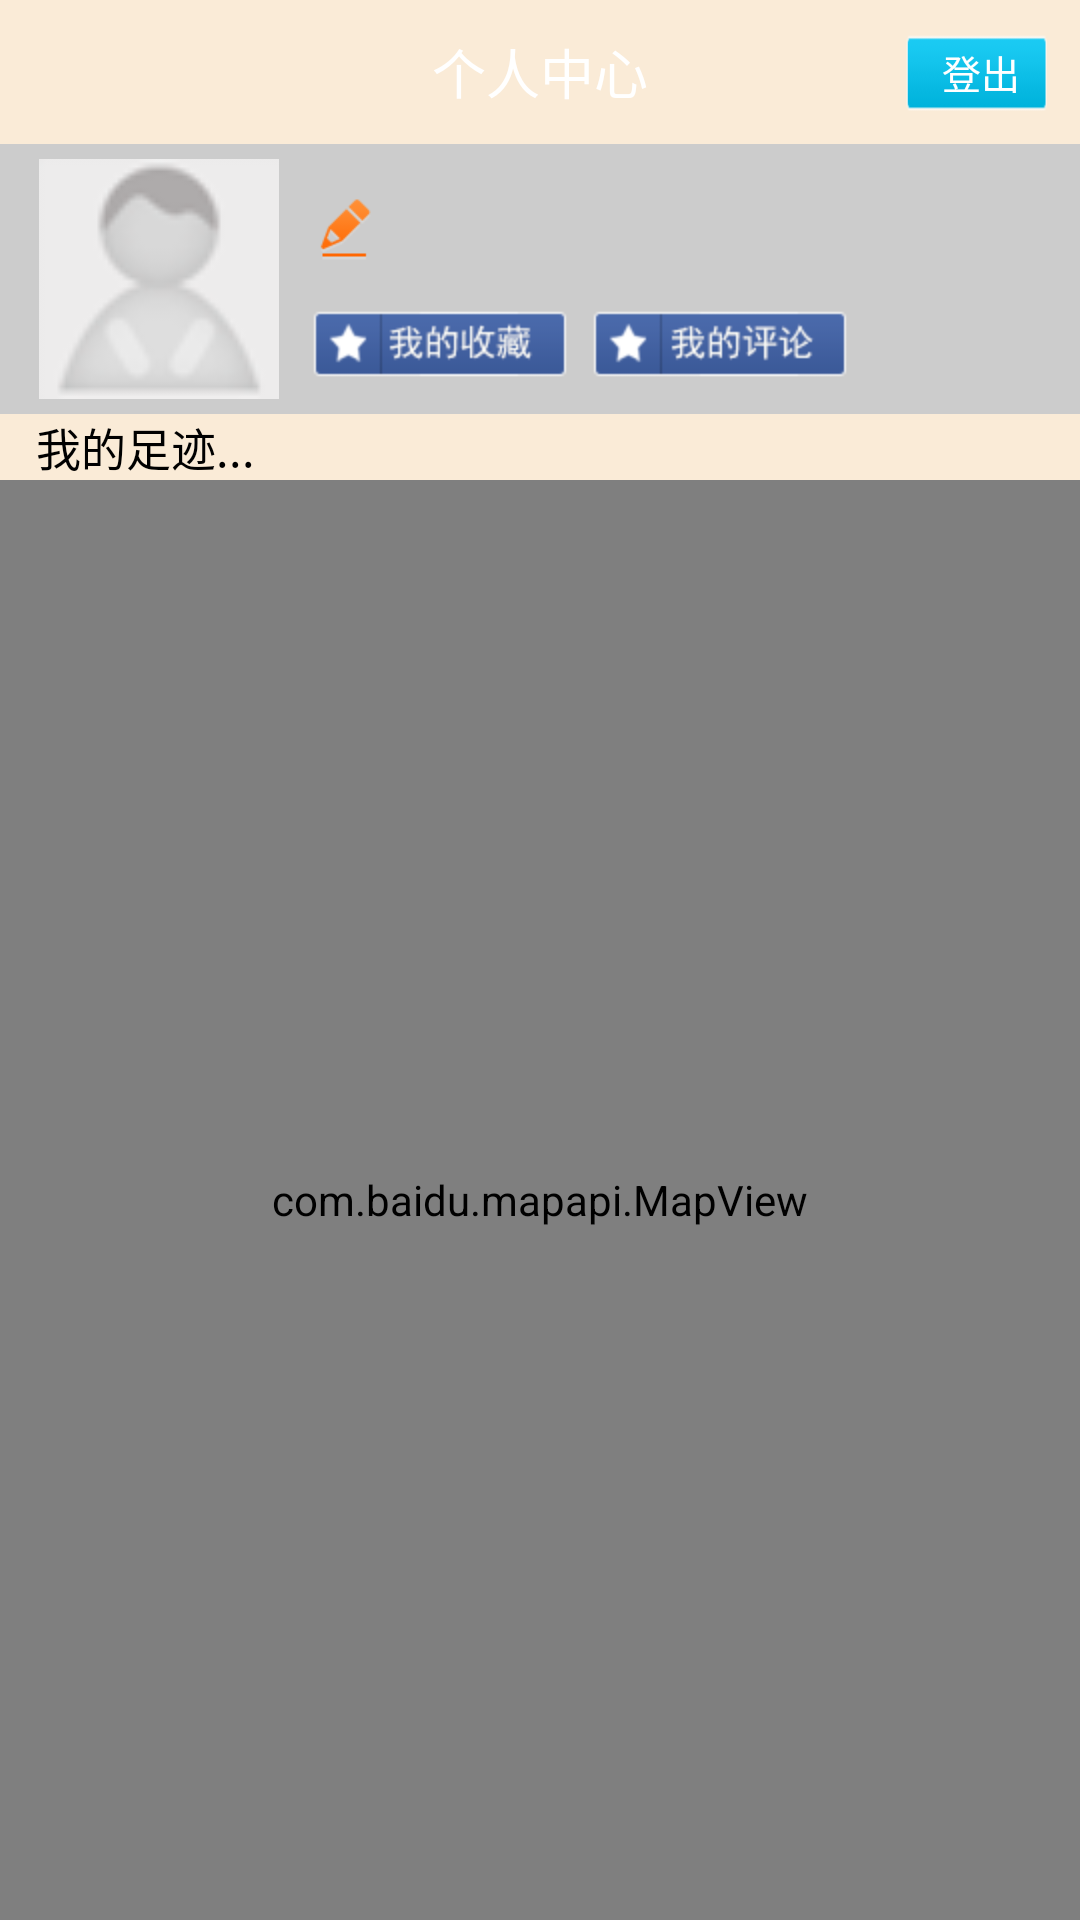

Icon click points for this 1080 × 1920 phone screenshot, format point (x, y):
user wde: point (159, 279)
